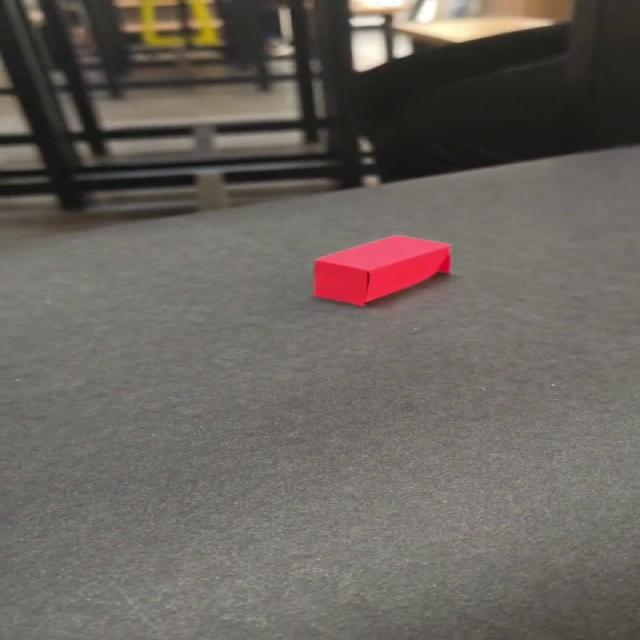red block: (312, 233, 452, 307)
